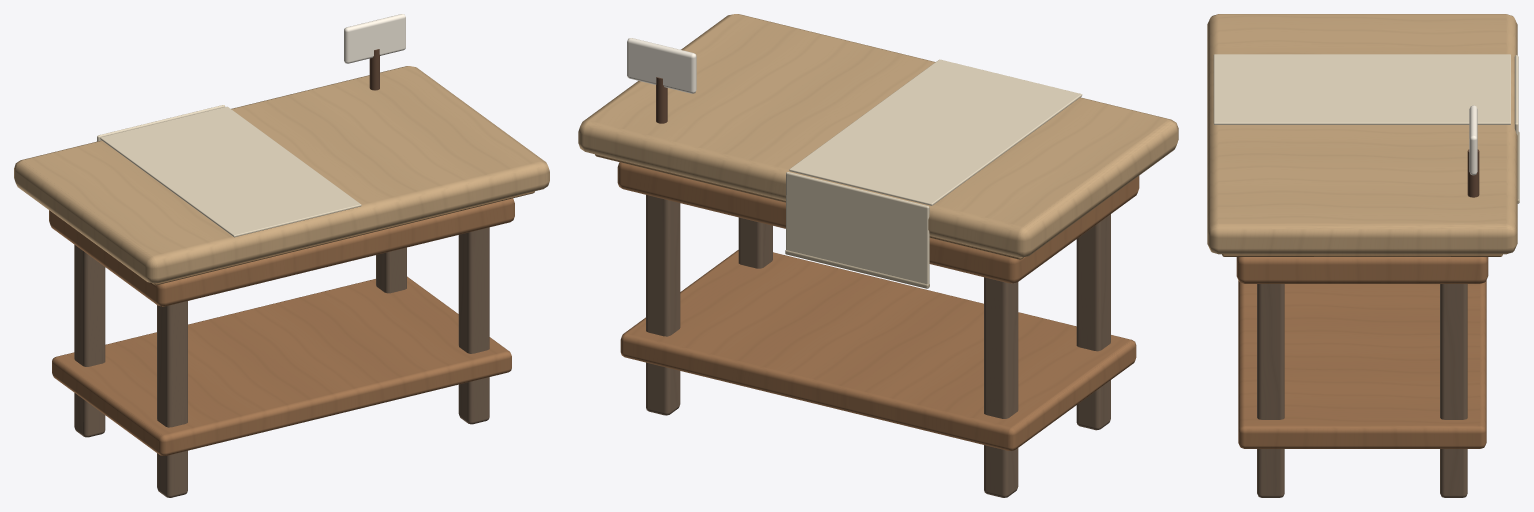
The model's file is display-2.glb.
The picture shows the model from 3 angles, left to right: view 1: azimuth 30°, elevation 25°; view 2: azimuth 150°, elevation 25°; view 3: azimuth 270°, elevation 25°; orthographic projection. The views are drawn at different scales.
Parts seen in each view (by area): view 1: display-2; view 2: display-2; view 3: display-2.
Part boxes in pixels (bbox=[...]): display-2: bbox=[14, 14, 549, 497]; display-2: bbox=[578, 14, 1178, 497]; display-2: bbox=[1207, 14, 1519, 497].
Bounding box in the file's own units: 1.58 × 1.25 × 0.9565.
Materials: 8 (4 with a texture image).
